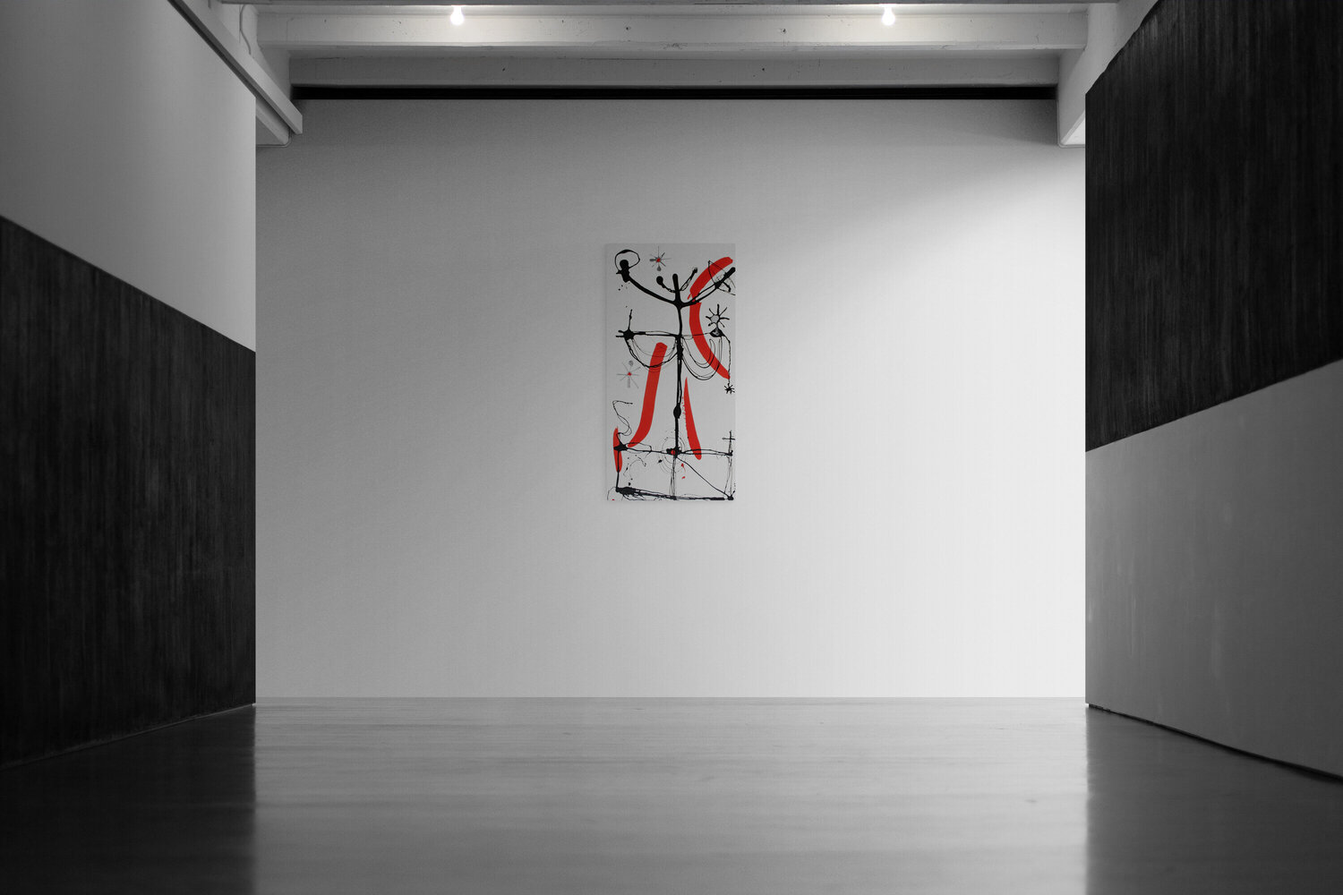painting: (602, 241, 741, 505)
